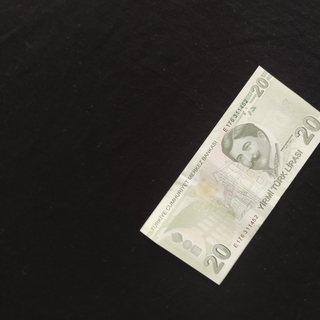20TLBack: (139, 65, 320, 286)
